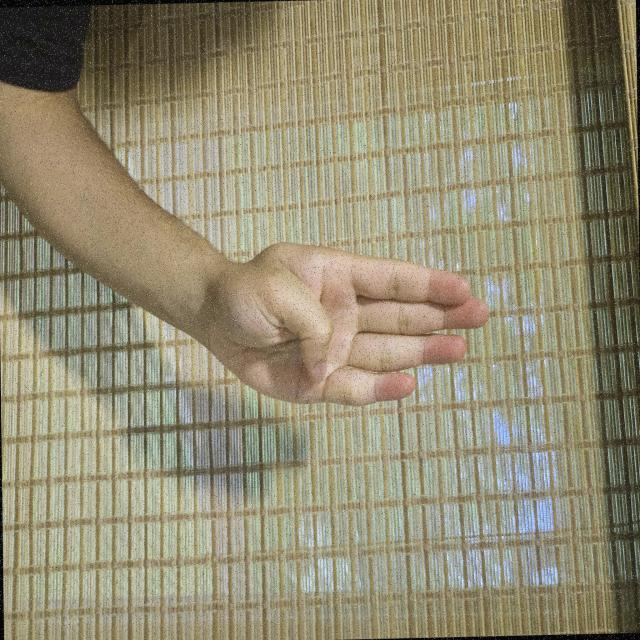B: (334, 194, 470, 570)
